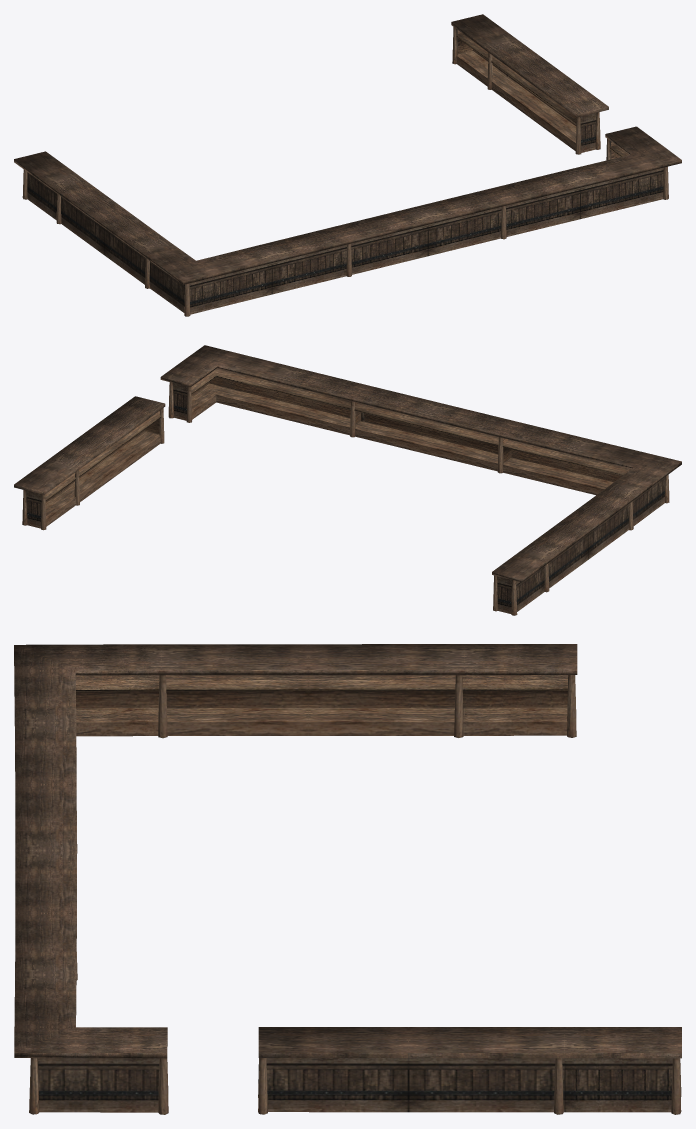
Rendered from d_sg_shouyou_zhuozi02_qt.FBX.
The picture shows the model from 3 angles, top to bottom: view 1: azimuth 30°, elevation 25°; view 2: azimuth 150°, elevation 25°; view 3: azimuth 270°, elevation 25°; orthographic projection. The views are drawn at different scales.
Parts seen in each view (by area): view 1: d_sg_shouyou_zhuozi02_qt; view 2: d_sg_shouyou_zhuozi02_qt; view 3: d_sg_shouyou_zhuozi02_qt.
Part boxes in pixels (bbox=[...]): d_sg_shouyou_zhuozi02_qt: bbox=[14, 14, 681, 316]; d_sg_shouyou_zhuozi02_qt: bbox=[14, 345, 681, 615]; d_sg_shouyou_zhuozi02_qt: bbox=[14, 644, 681, 1114].
Size of the model in its own units: 16.94 by 1.31 by 11.69.
